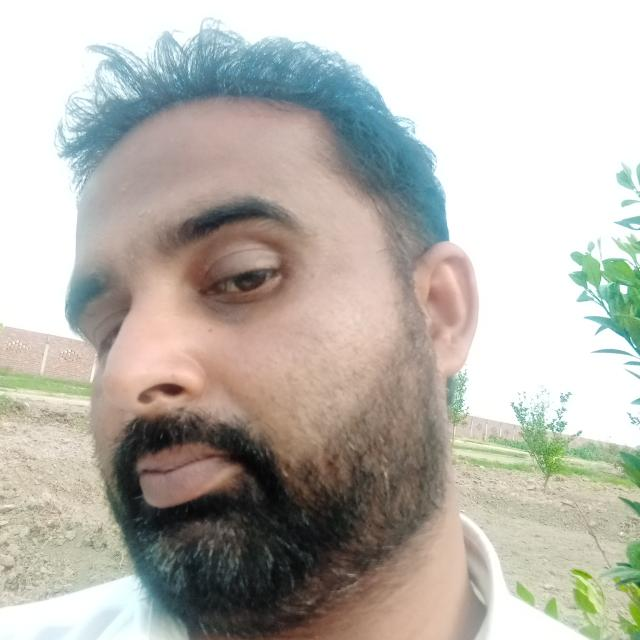Acne: (135, 204, 151, 218), (119, 182, 130, 195)
Englarged-Pores: (276, 323, 362, 426)
Eyebags: (185, 288, 304, 324)
